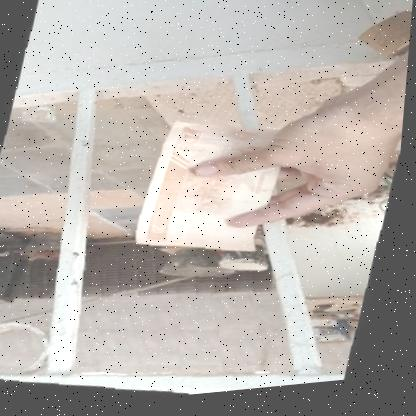twenty-back-vef: (135, 113, 292, 267)
